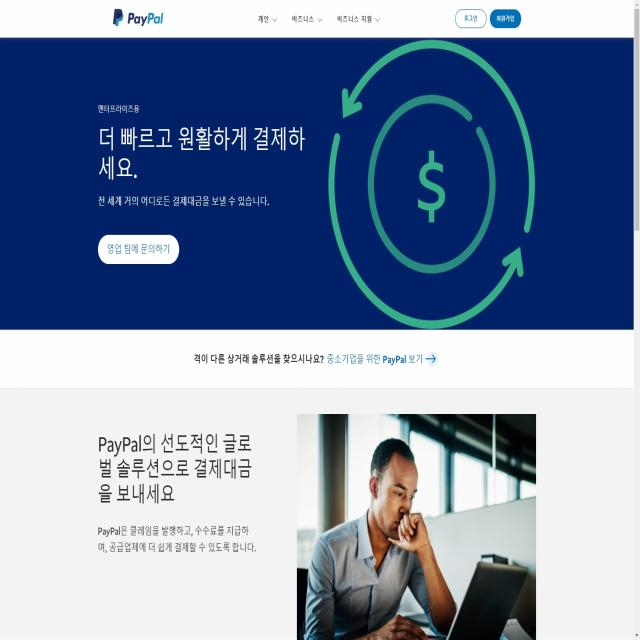menu-bar: (246, 4, 526, 32)
